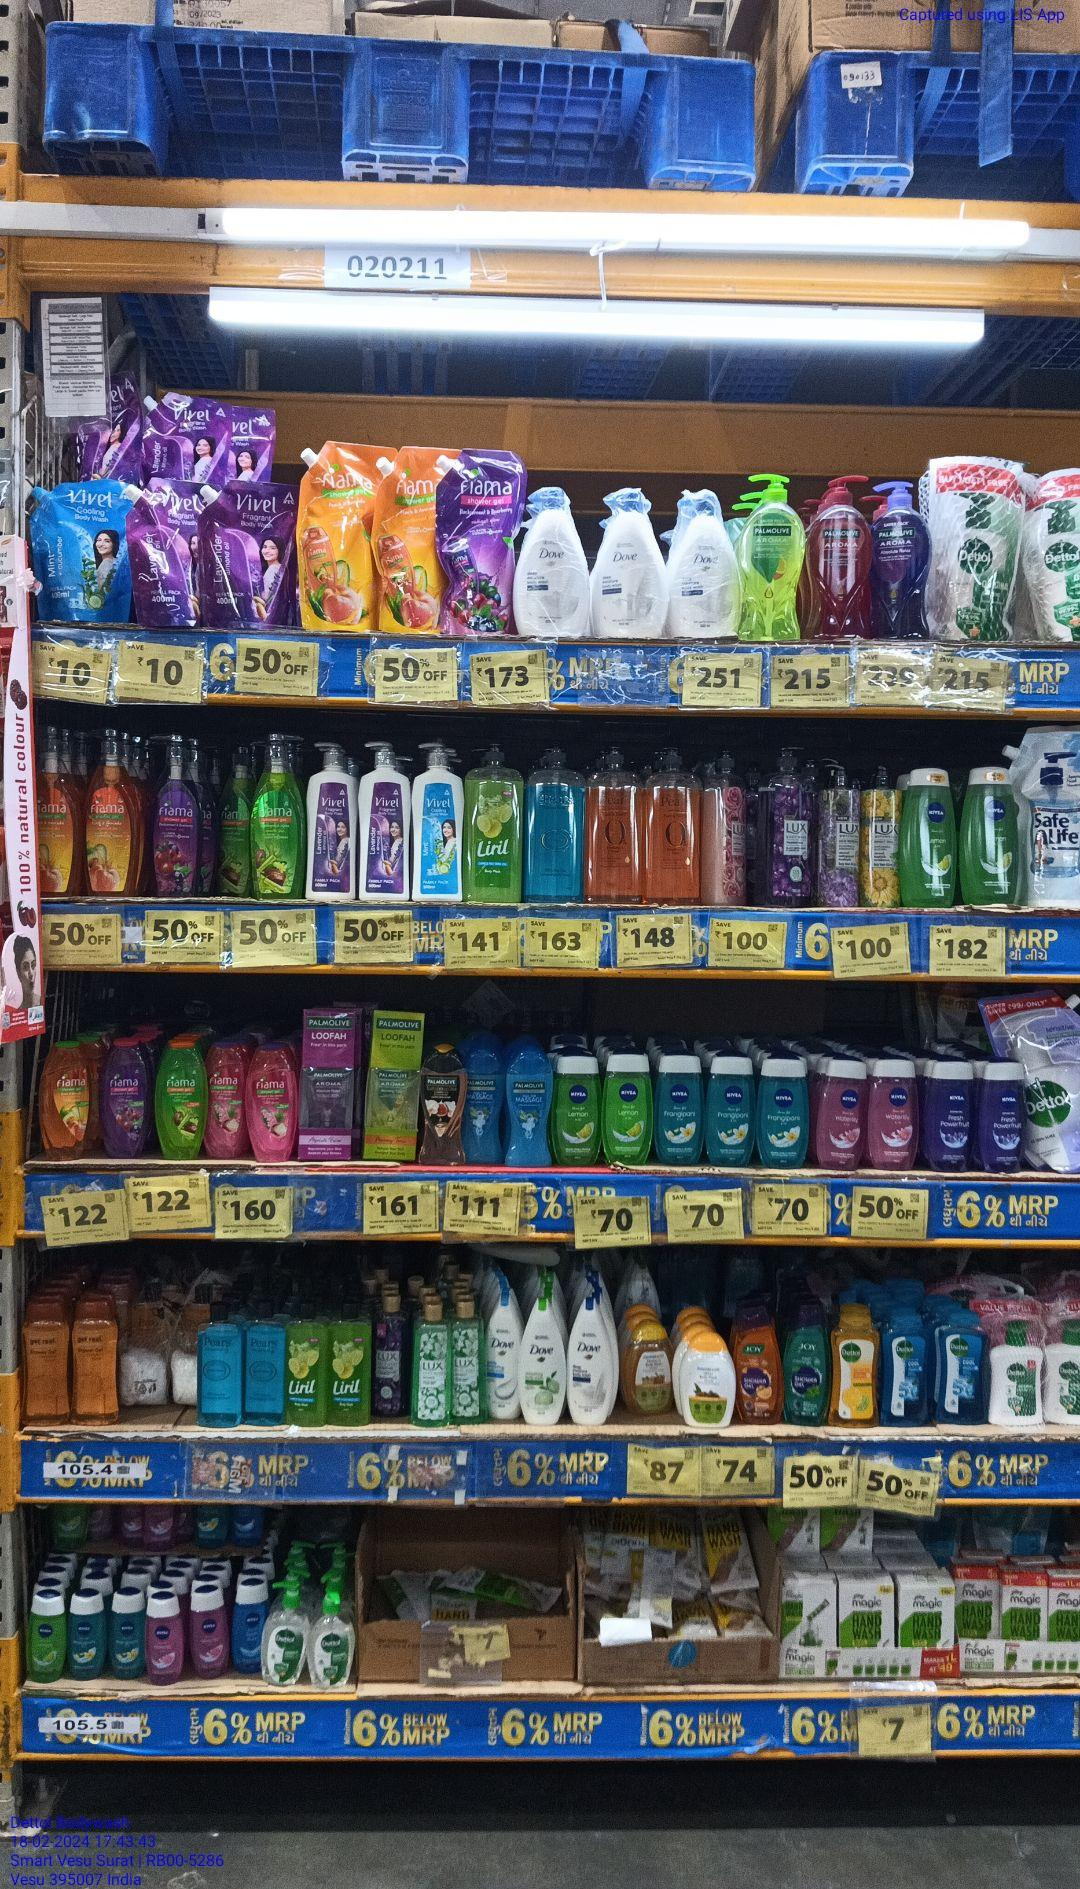Dettol_Bodywash_Cool: (933, 1308, 988, 1425), (884, 1309, 931, 1432)
Dettol_Bodywash_Refresh: (831, 1304, 880, 1427)
Dove_Deep_Moisture_Body_Wash_250ML: (569, 1296, 613, 1427)
Dove_Gentle_Exfoliating_Body_Wash_250ML: (488, 1290, 519, 1419)
Dove_Refreshing_Body_Wash_250ML: (522, 1290, 566, 1427)
Fiama_Shower_Gel_Lemongrass_and_Jojoba_250ML: (156, 1038, 206, 1157)
Fiama_Shower_Gel_Patchouli_and_Macadamia_250ML: (249, 1038, 297, 1162), (206, 1041, 245, 1156)
Fiama_Shower_Gel_Peach_and_Avocado_250ML: (38, 1039, 91, 1156)
Get_Real_Shower_Gel_Moisturising_Glycerin_300ML: (71, 1296, 123, 1423), (18, 1300, 69, 1427)
Joy_Shower_Gel_Mandarin_and_Lemongrass_250ML: (737, 1301, 781, 1425)
Joy_Shower_Gel_Mint_and_Eucalyptus_250ML: (784, 1300, 828, 1426)
Liril_Lime_and_Tea_Tree_Oil_Body_Wash_250ML: (327, 1299, 369, 1427), (287, 1296, 326, 1427)
Lux_Black_Orchid_Scent_and_Juniper_Oil_Body_Wash_245ML: (370, 1293, 410, 1418)
Lux_Body_Wash_Skin_Detox_Freesia_Scent_and_Alove_Vera_245ML: (411, 1303, 453, 1427), (454, 1299, 487, 1428)
Nivea_Shower_Gel_Frangipani_and_Oil_250ML: (757, 1057, 810, 1170), (657, 1057, 700, 1164), (707, 1056, 750, 1162)
Nivea_Shower_Gel_Fresh_Powerfruit_250ML: (980, 1061, 1027, 1172), (922, 1064, 970, 1168)
Nivea_Shower_Gel_Lemon_and_Oil_250ML: (962, 767, 1022, 908), (900, 765, 957, 907), (605, 1052, 653, 1166), (553, 1057, 598, 1166)
Nivea_Shower_Gel_Waterlily_and_Oil_250ML: (818, 1059, 867, 1166), (872, 1056, 918, 1169)
Palmolive_Aroma_Moments_Feel_The_Massage_Shower_Gel_250ML: (504, 1052, 549, 1164), (467, 1046, 504, 1160)
Palmolive_Luminous_Oils_With_White_Orchid_Shower_Gel_250ML: (419, 1044, 465, 1166)
Pears_Pure_Glycerin_and_Mint_Extracts_Body_Wash_250ML: (196, 1297, 244, 1427), (244, 1301, 283, 1425)
